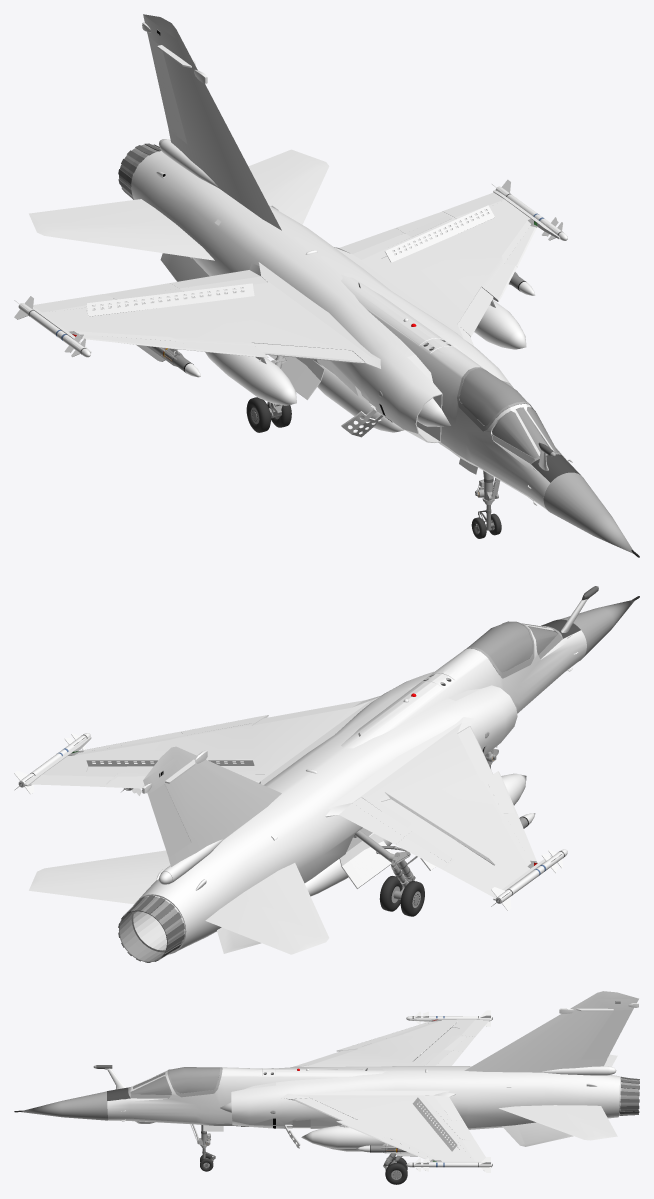
Rendered from dassault_mirage_f1.glb.
3 views of the same model, one above another, from view 1: azimuth 30°, elevation 25°; view 2: azimuth 150°, elevation 25°; view 3: azimuth 270°, elevation 25° (orthographic). The views are drawn at different scales.
Visible parts, largest first — view 1: Circle.002_166, Plane.027_178, Plane.005_151, Cube.014_156, Plane.018_154, Plane.017_153, Cone.003_165, Cone.005_211, Cube.001_139, Plane.041_258, Cylinder_138, Cone.006_228 (+9 smaller); view 2: Circle.002_166, Plane.027_178, Plane.005_151, Cube.014_156, Plane.018_154, Plane.017_153, Cube.001_139, Cylinder.002_147, Plane.019_155, Circle.006_82, Cone.003_165, Torus.006_19 (+15 smaller); view 3: Circle.002_166, Cube.014_156, Plane.005_151, Plane.027_178, Plane.017_153, Cone.003_165, Cube.001_139, Cone.006_228, Plane.019_155, Plane.004_149, Cylinder_138, Plane.042_257 (+10 smaller).
Boxes of the visible parts, bbox=[...] form: Circle.002_166: bbox=[131, 151, 583, 509]; Plane.027_178: bbox=[43, 262, 380, 368]; Plane.005_151: bbox=[334, 200, 530, 345]; Cube.014_156: bbox=[143, 14, 281, 230]; Plane.018_154: bbox=[29, 199, 214, 260]; Plane.017_153: bbox=[248, 149, 329, 224]; Cone.003_165: bbox=[543, 473, 632, 553]; Cone.005_211: bbox=[205, 352, 296, 405]; Cube.001_139: bbox=[457, 367, 533, 431]; Plane.041_258: bbox=[86, 283, 254, 316]; Cylinder_138: bbox=[492, 407, 557, 458]; Cone.006_228: bbox=[474, 300, 526, 349]; Circle.002_166: bbox=[134, 619, 586, 954]; Plane.027_178: bbox=[325, 717, 530, 887]; Plane.005_151: bbox=[42, 696, 380, 786]; Cube.014_156: bbox=[143, 746, 281, 866]; Plane.018_154: bbox=[205, 863, 329, 954]; Plane.017_153: bbox=[29, 850, 170, 904]; Cube.001_139: bbox=[463, 621, 534, 678]; Cylinder.002_147: bbox=[119, 897, 183, 962]; Plane.019_155: bbox=[148, 784, 191, 857]; Circle.006_82: bbox=[339, 833, 392, 888]; Cone.003_165: bbox=[559, 600, 634, 660]; Torus.006_19: bbox=[379, 876, 424, 916]; Circle.002_166: bbox=[107, 1066, 619, 1129]; Cube.014_156: bbox=[464, 991, 638, 1072]; Plane.005_151: bbox=[281, 1090, 474, 1161]; Plane.027_178: bbox=[291, 1019, 474, 1067]; Plane.017_153: bbox=[499, 1105, 617, 1140]; Cone.003_165: bbox=[21, 1091, 108, 1120]; Cube.001_139: bbox=[167, 1067, 222, 1097]; Cone.006_228: bbox=[301, 1125, 384, 1148]; Plane.019_155: bbox=[581, 1009, 632, 1059]; Plane.004_149: bbox=[502, 1122, 573, 1146]; Cylinder_138: bbox=[130, 1072, 171, 1094]; Plane.042_257: bbox=[412, 1097, 457, 1151].
Bounding box in the file's own units: 6.98 × 3.81 × 12.18.
Materials: 69 (28 with a texture image).
